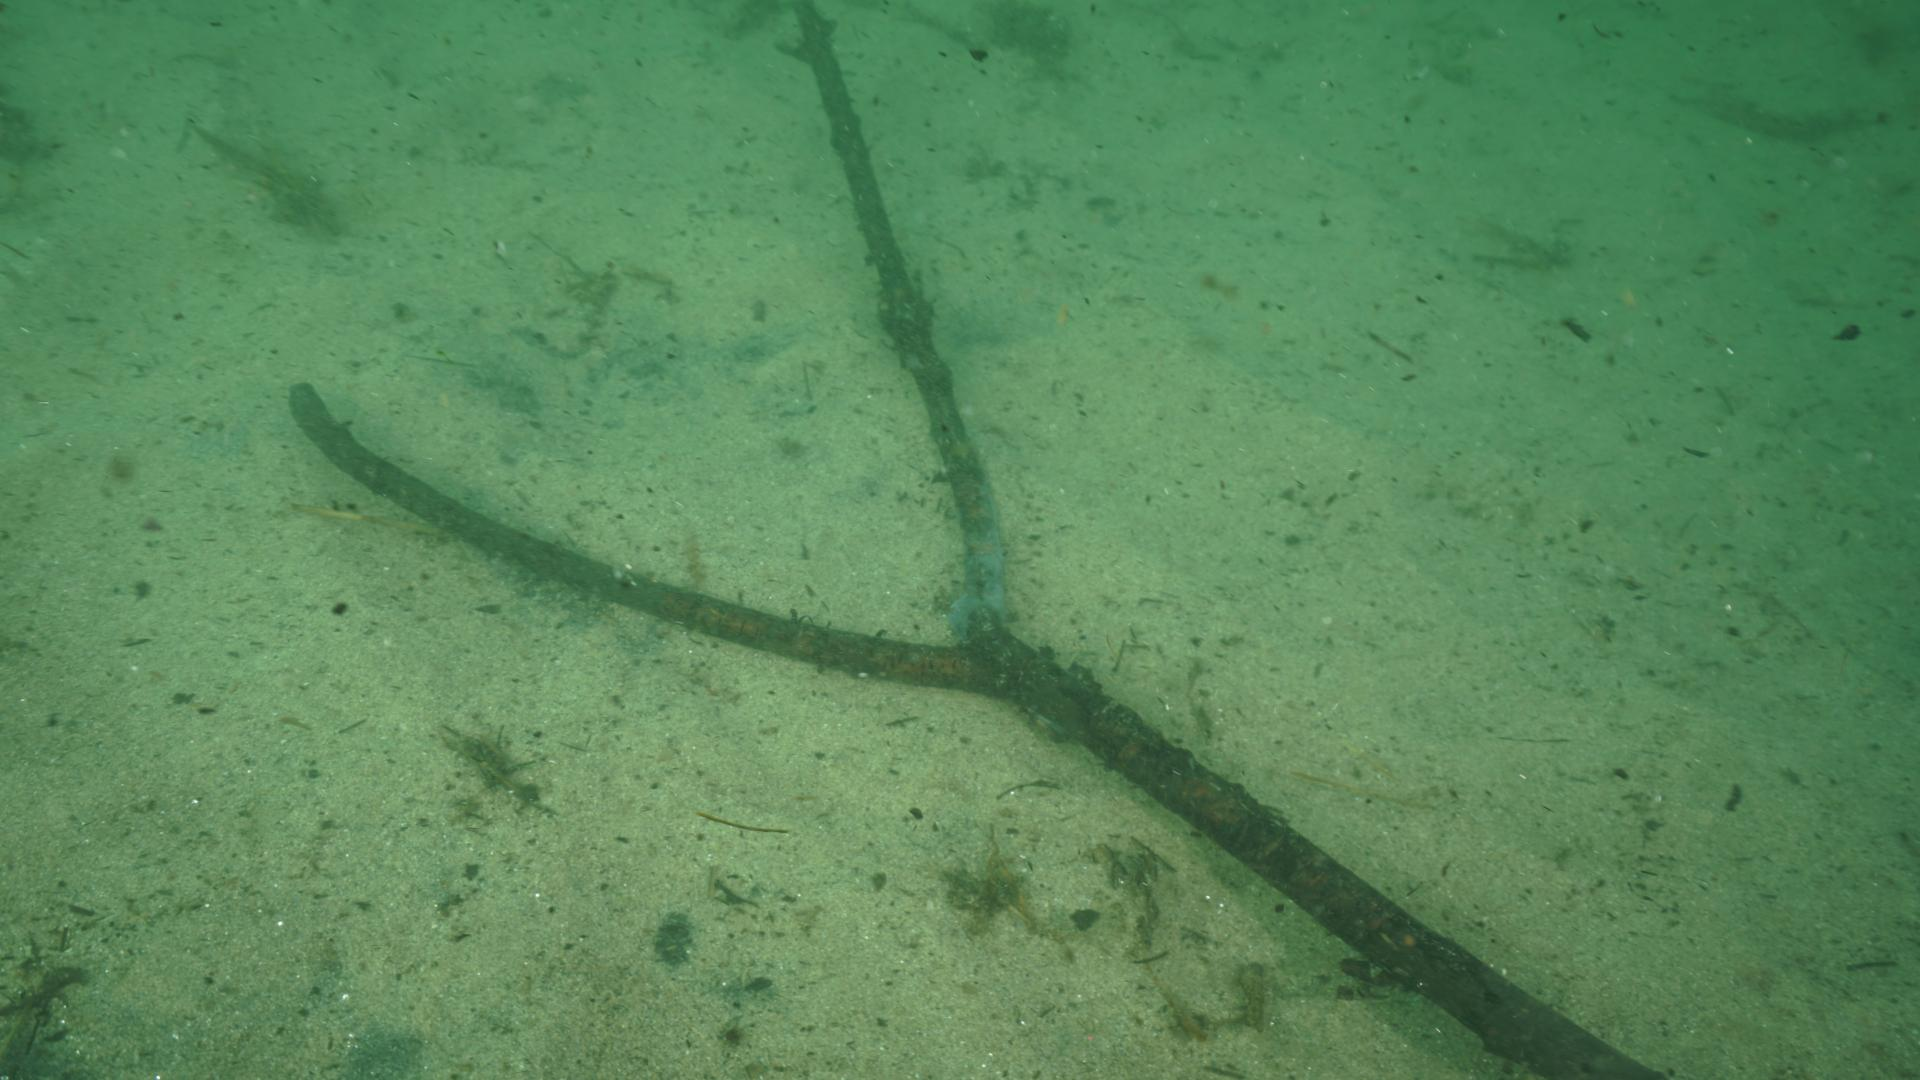wood: (281, 0, 1676, 1080)
